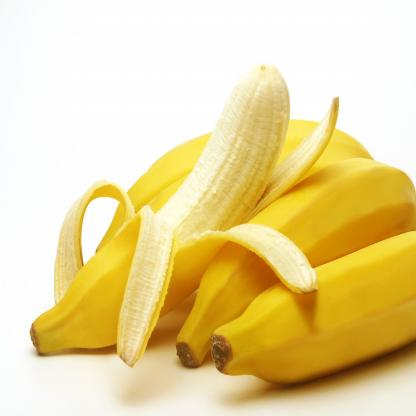banana: (26, 59, 333, 360), (167, 157, 416, 377), (212, 227, 416, 403)
